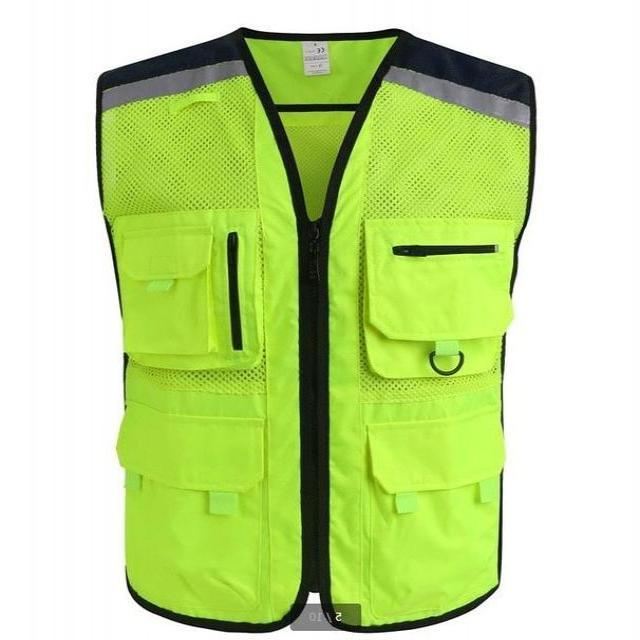reflective_jacket: (45, 2, 582, 639)
